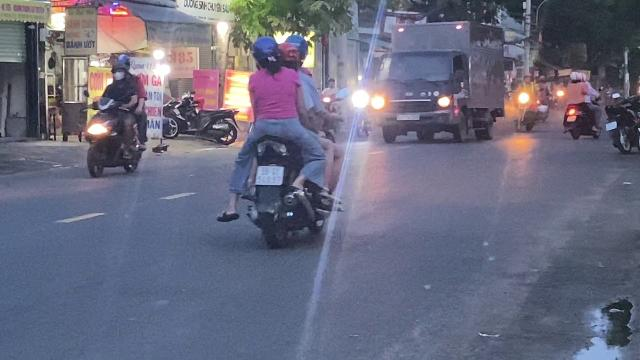helmet: (248, 34, 282, 70), (278, 33, 310, 70), (110, 60, 130, 80), (114, 54, 130, 70)
licenseplate: (256, 166, 284, 184)
motorcyclist: (225, 34, 339, 250), (81, 53, 151, 179)
